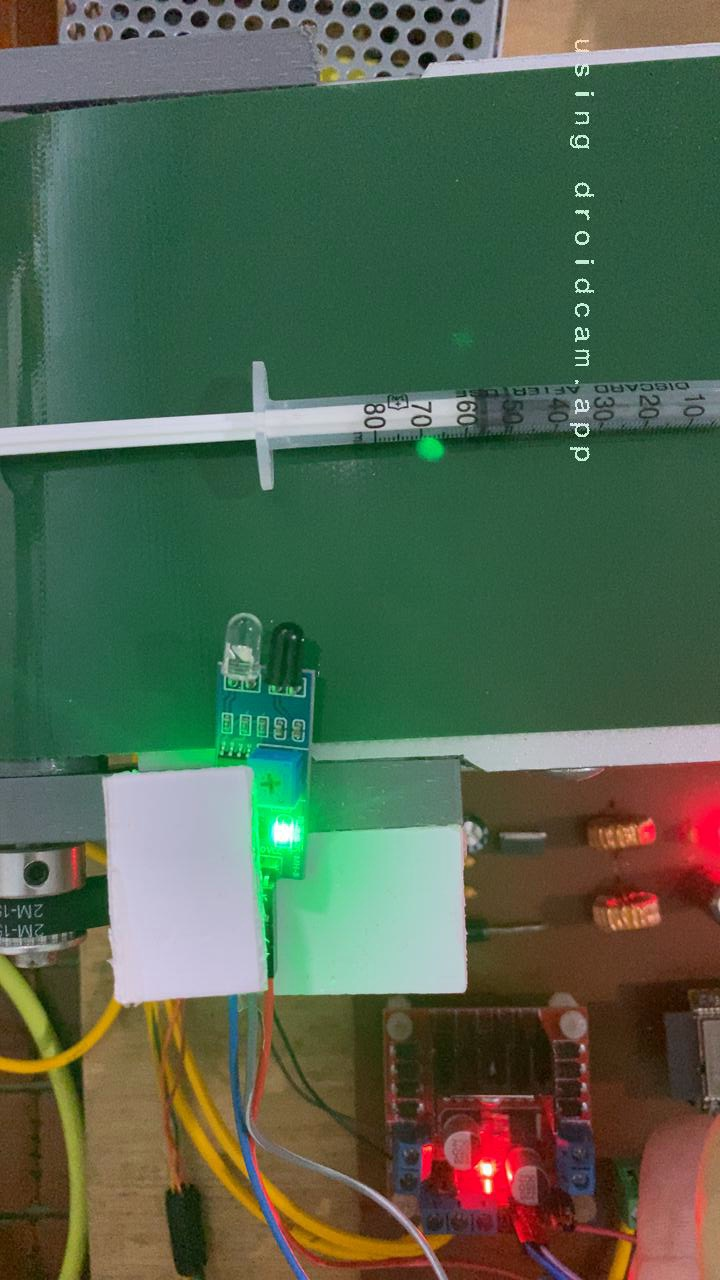syringe: (0, 355, 485, 498)
